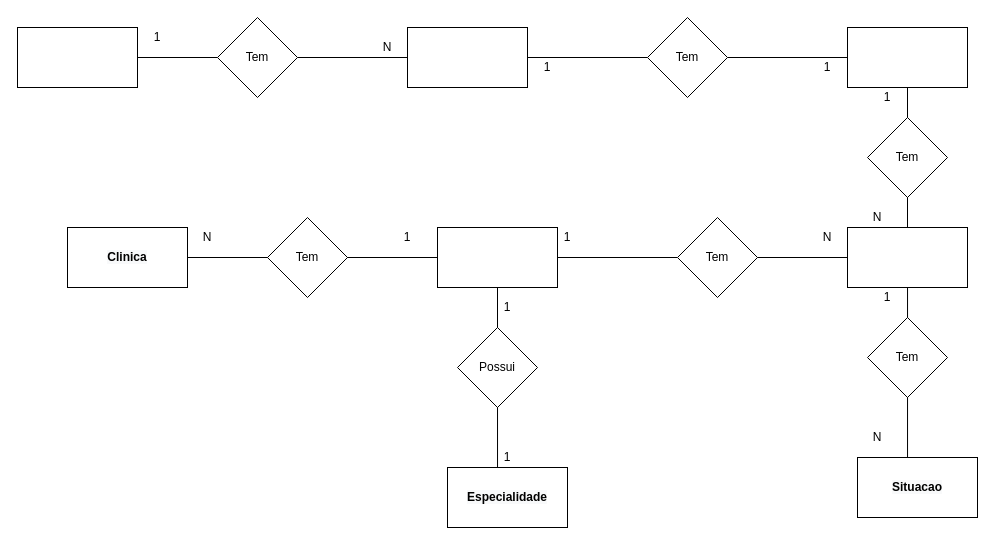
The diagram is 995 pixels wide and 551 high, and some of its shapes have lost their labels. Each missing label, with the box of its shape:
Consulta: (846, 226, 968, 288)
Medico: (436, 226, 558, 288)
Paciente: (846, 26, 968, 88)
TipoUsuario: (406, 26, 528, 88)
Usuario: (16, 26, 138, 88)
